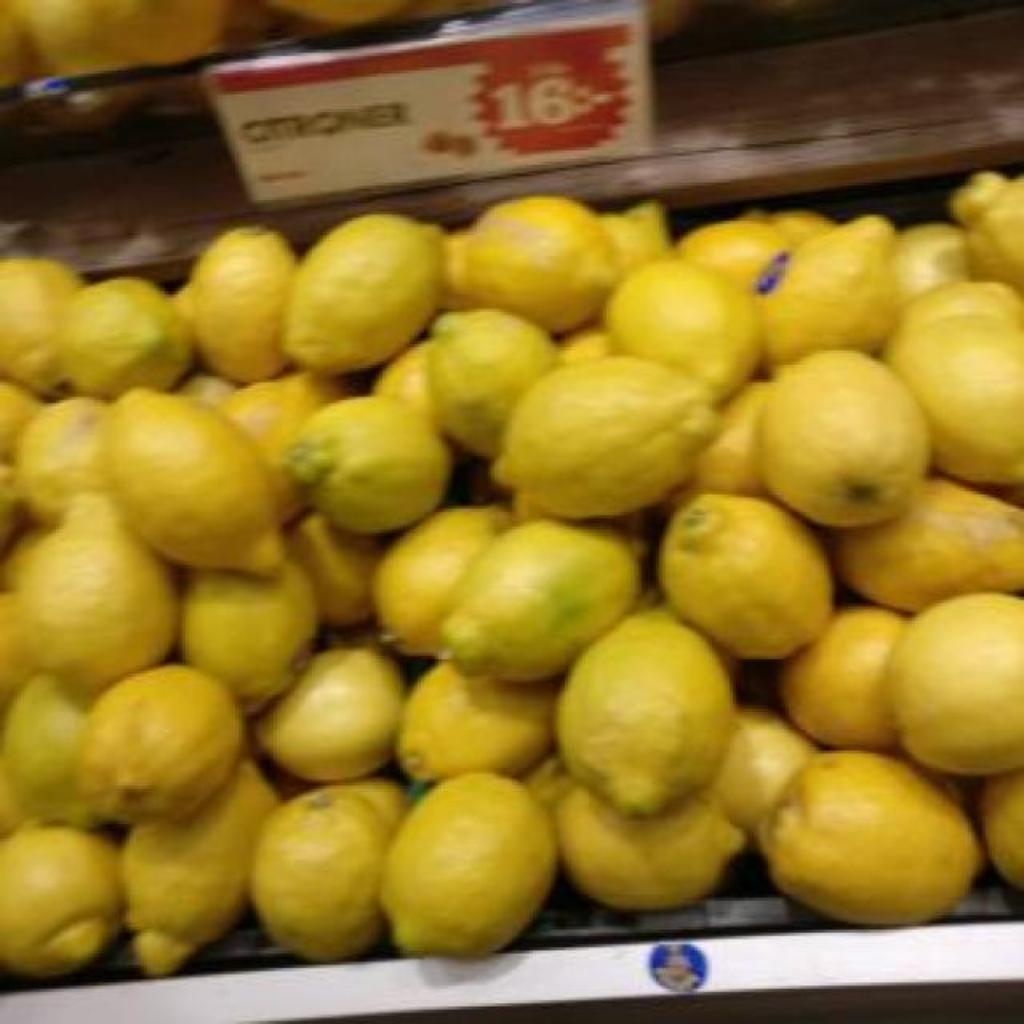lemon: (758, 752, 982, 923), (556, 610, 734, 815), (494, 356, 718, 517), (6, 492, 178, 693), (380, 772, 558, 955), (108, 388, 284, 573), (442, 520, 640, 681), (760, 350, 930, 527), (250, 778, 410, 961), (122, 758, 278, 945), (884, 282, 1024, 485), (660, 494, 834, 657), (78, 666, 244, 821), (834, 478, 1024, 611), (284, 214, 442, 373), (888, 592, 1024, 775), (444, 196, 620, 332), (556, 786, 744, 910), (286, 396, 452, 534), (606, 258, 762, 399), (182, 560, 318, 711), (760, 218, 898, 365), (374, 508, 510, 655), (256, 648, 404, 782), (396, 662, 556, 781), (0, 824, 122, 977), (220, 372, 344, 521), (780, 608, 906, 749), (430, 310, 552, 455), (186, 226, 296, 382), (62, 278, 192, 397), (6, 674, 94, 825), (712, 708, 816, 831), (16, 398, 110, 523), (0, 260, 82, 394), (290, 512, 382, 626), (950, 172, 1024, 291), (692, 382, 771, 493), (680, 220, 790, 290), (892, 222, 970, 301), (982, 770, 1024, 889), (598, 214, 668, 273)
